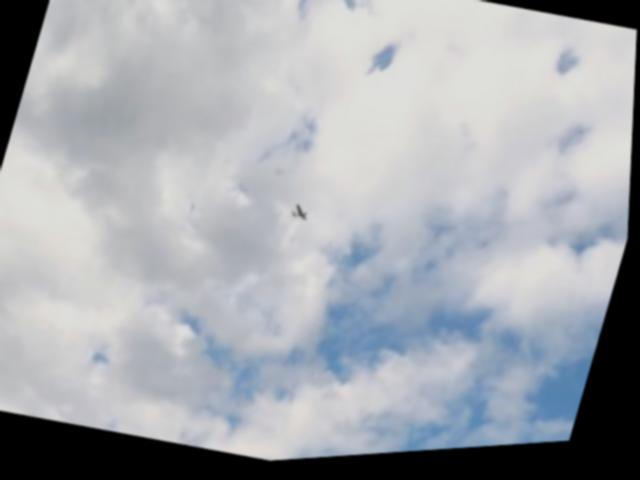uav: (289, 205, 316, 229)
